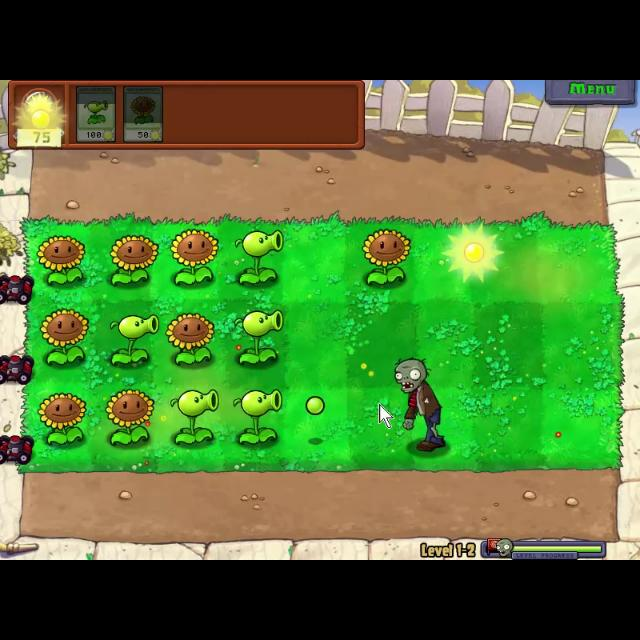Garden: (20, 216, 624, 472)
Menu Button: (544, 80, 636, 104)
Mower: (0, 346, 32, 388), (1, 274, 34, 308), (0, 434, 34, 466)
Peashooter: (76, 86, 118, 142)
Peashooter Seed: (228, 230, 292, 288), (104, 310, 160, 368), (230, 306, 284, 364), (168, 390, 222, 446), (232, 387, 284, 445)
Seed Panel: (7, 80, 369, 152)
Sun: (439, 223, 505, 283), (13, 101, 68, 149)
Sunflower: (123, 82, 163, 144)
Sunflower Seed: (163, 307, 220, 368), (100, 387, 156, 448), (33, 308, 89, 368), (31, 388, 88, 444), (106, 232, 162, 288), (36, 230, 90, 288), (168, 227, 218, 286), (360, 228, 410, 286)
Zombie: (390, 355, 448, 455)
